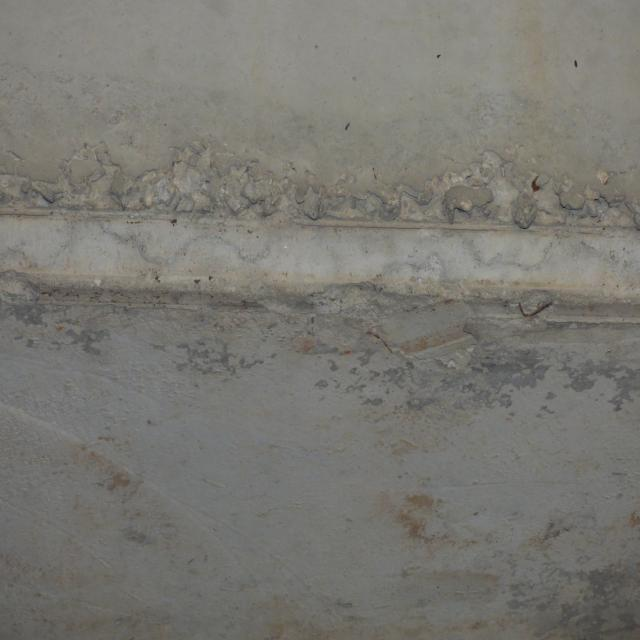corrosion: (339, 326, 397, 362), (514, 298, 554, 321), (530, 174, 541, 196), (169, 216, 179, 227)
